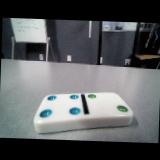domino: (33, 92, 132, 132)
